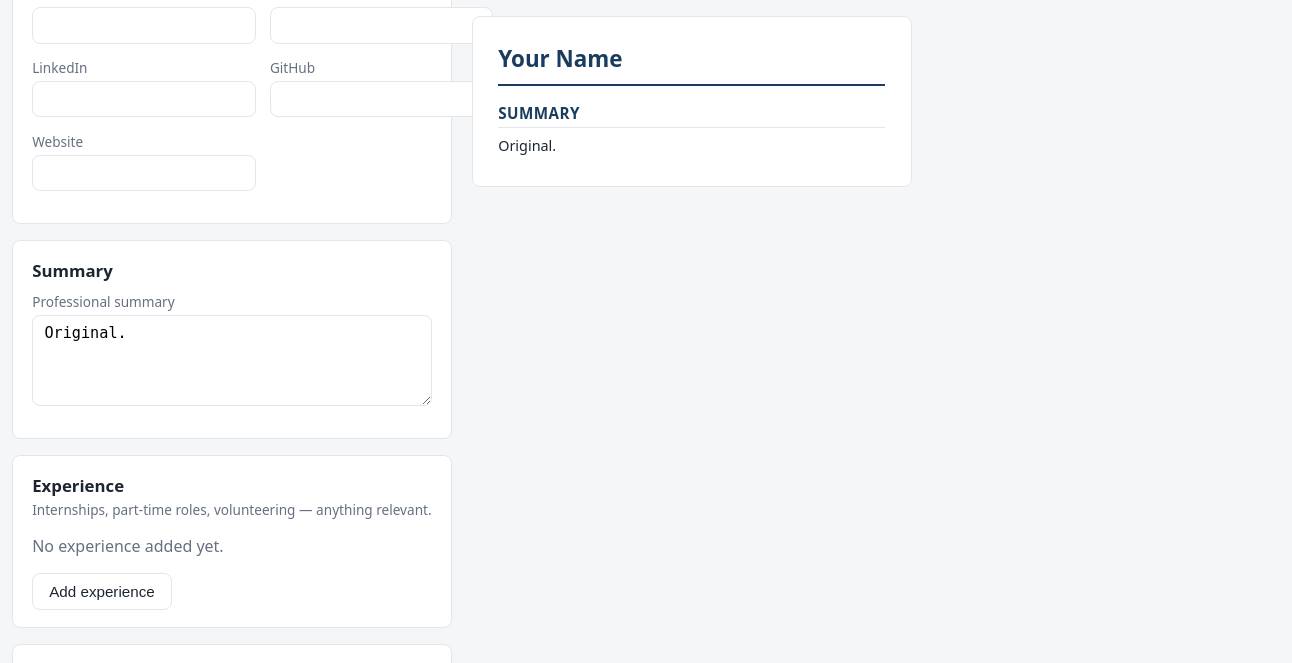
Scenario: <EditCV /> › saves an edited section as a new version (content in payload)
This screenshot has width=1292, height=663.
(page scrolled)
Step 1. Replace the text in the text box labelled "Professional summary" with "Rewritten summary." → {"x": 232, "y": 360}, box [32,315,432,406]
(page scrolled)
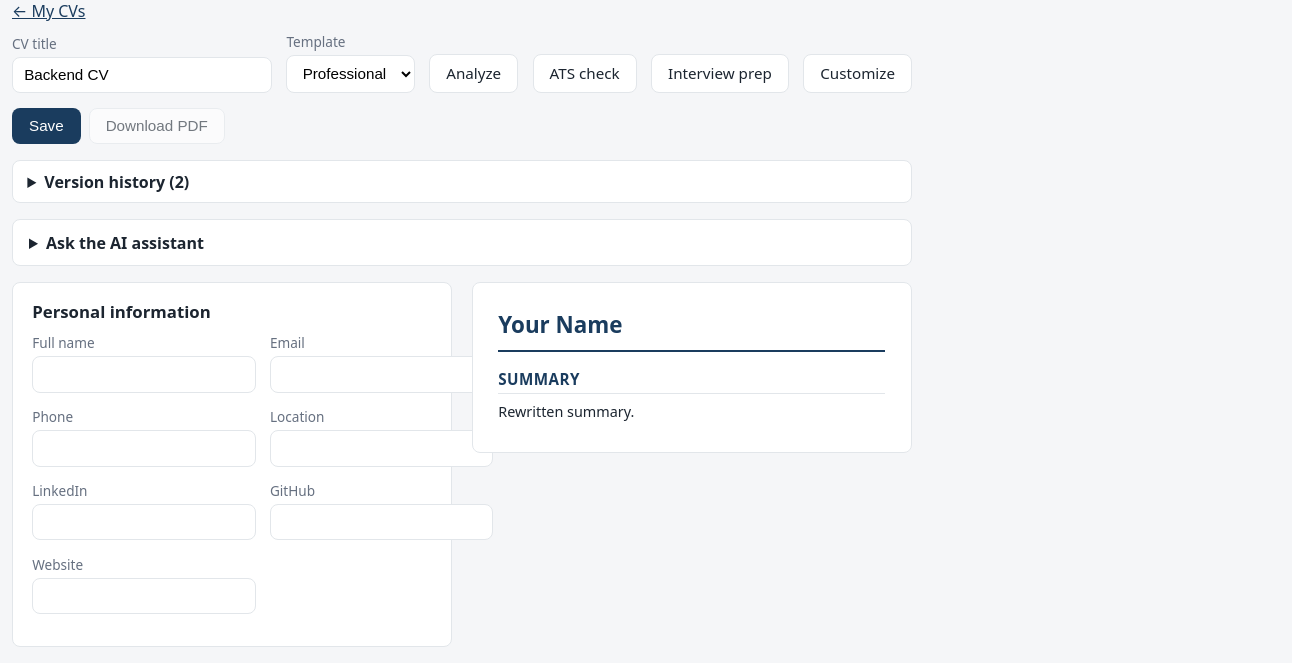
Check: the button "Save" is enabled
Step 2. Click the button "Save" → {"x": 46, "y": 126}, box [12,108,81,144]
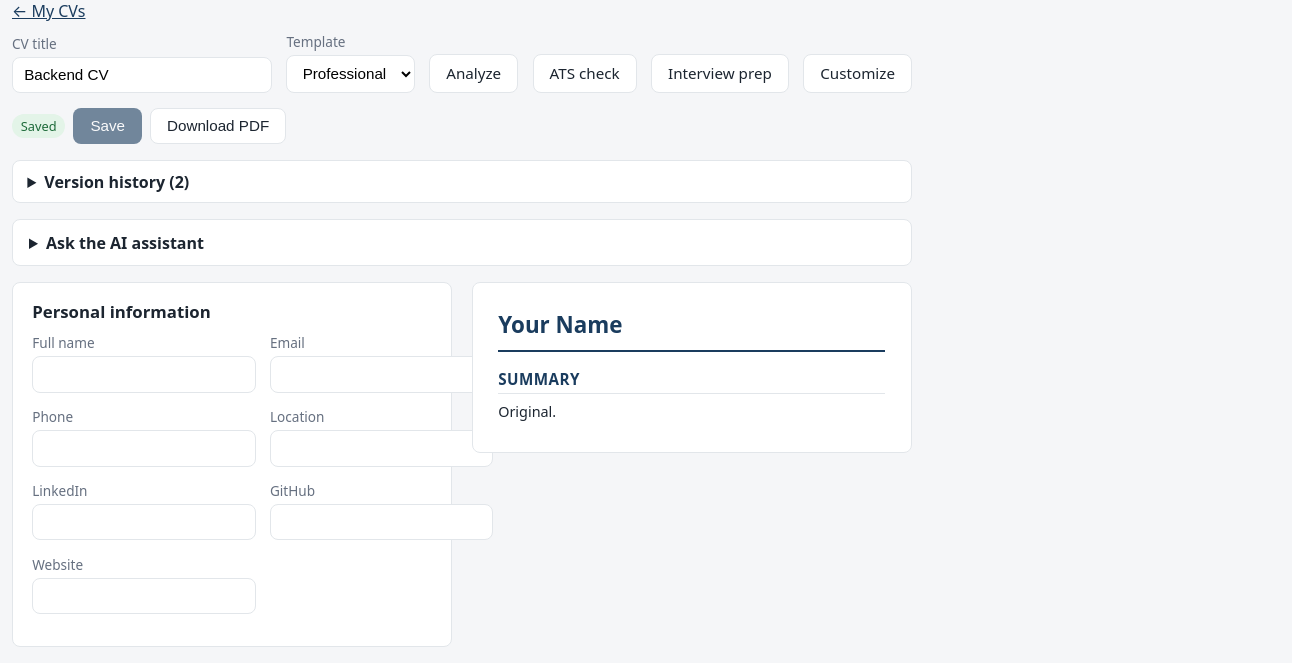
Check: the text "Saved" is shown, box [12,114,65,138]
